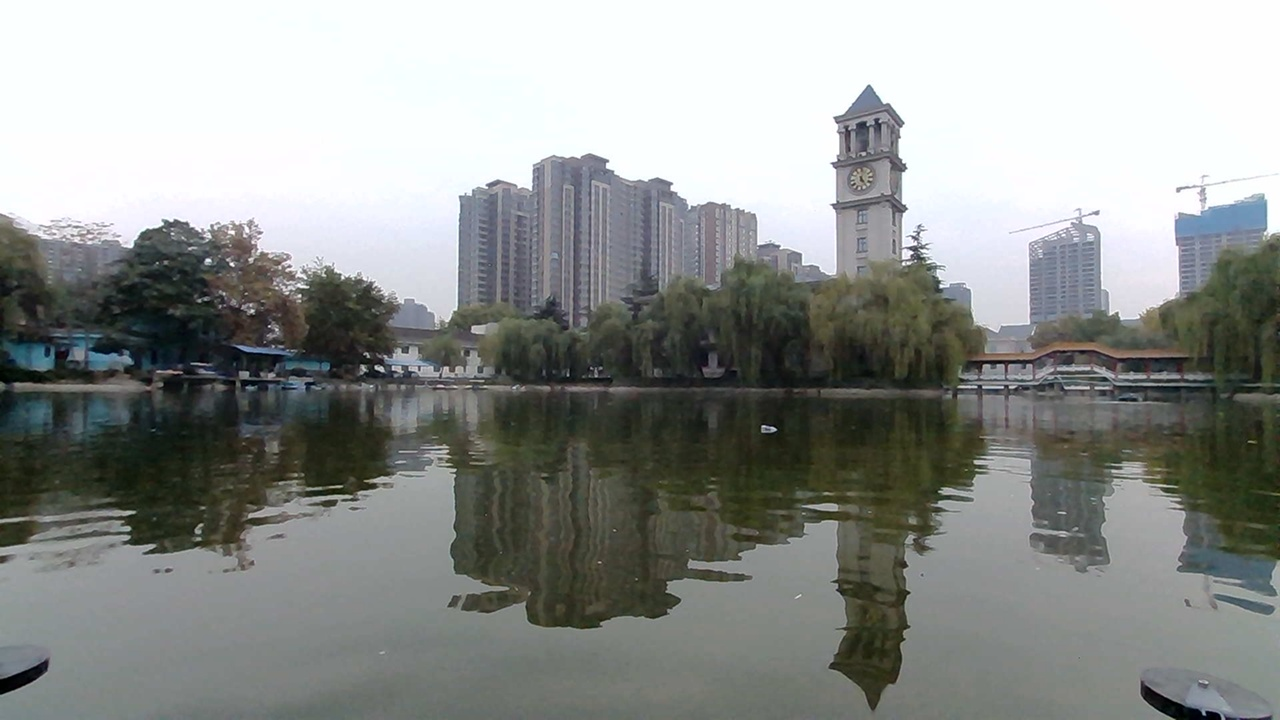bottle: (756, 413, 795, 443)
